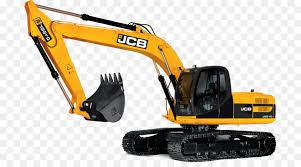excavator: (19, 2, 280, 163)
